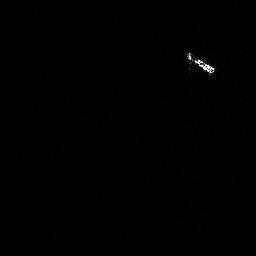ship: (183, 50, 217, 77)
